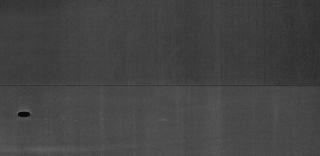punching hole: (15, 107, 35, 121)
welding line: (1, 82, 320, 90)
